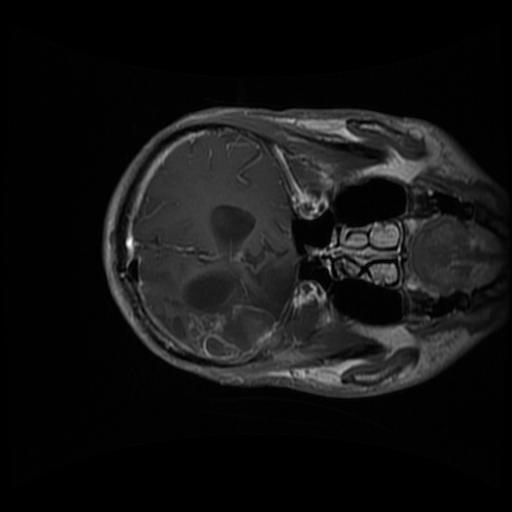glioma: (172, 264, 294, 360)
